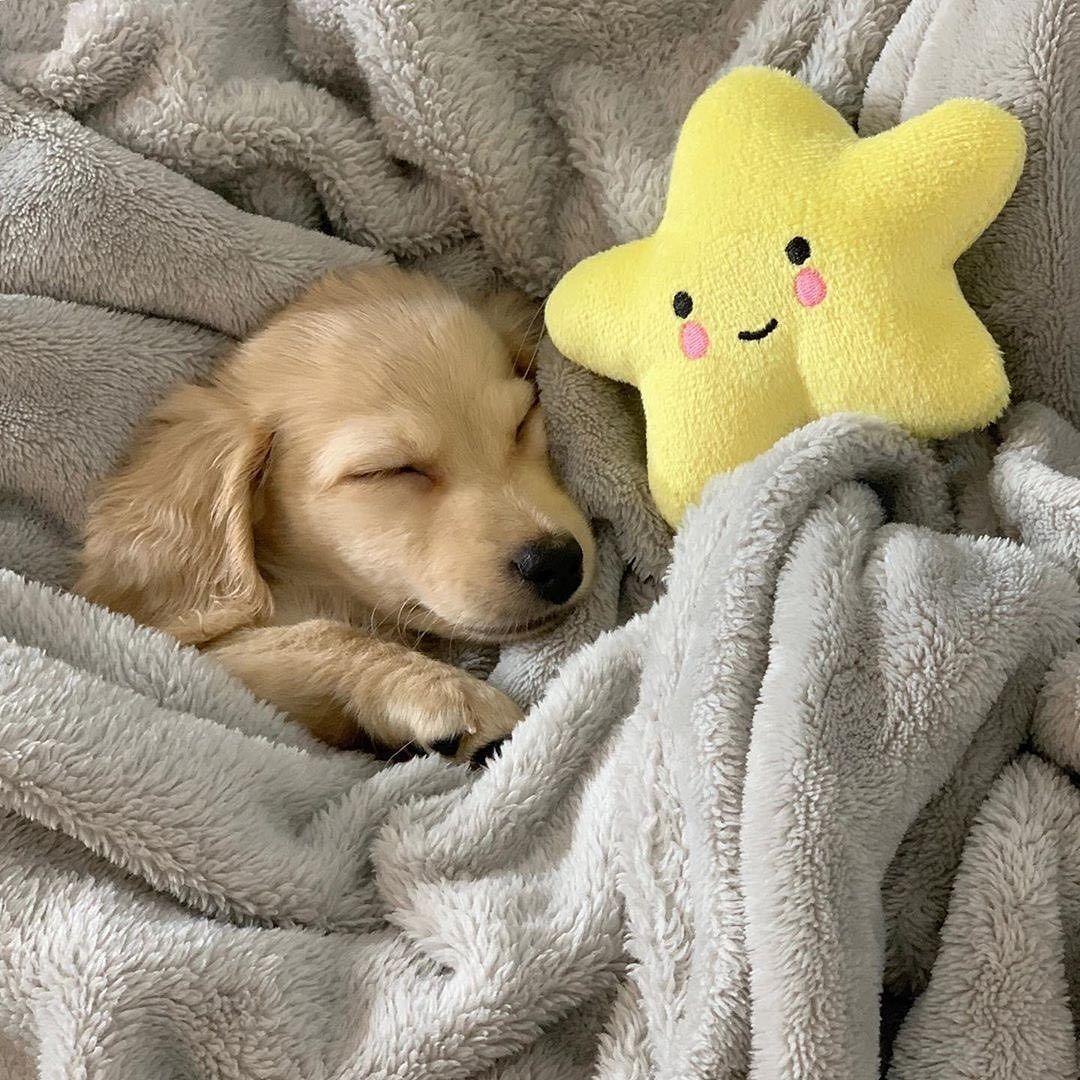puppy-dog: (55, 258, 605, 776)
